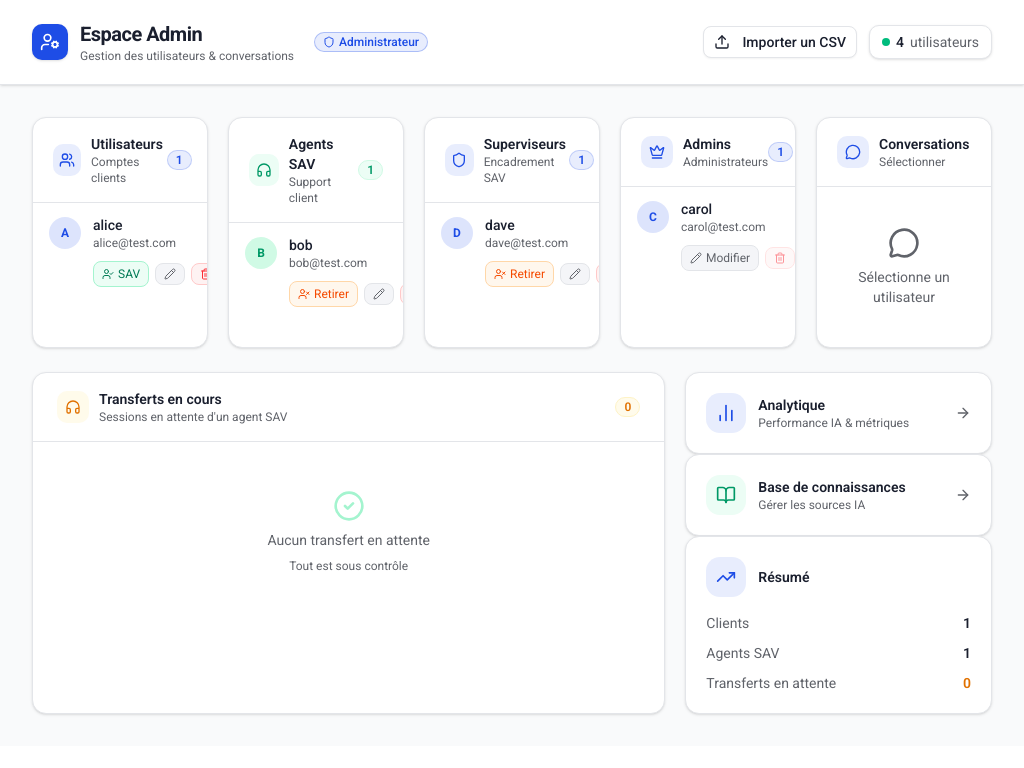
Test: AdminDashboard › loads a user's sessions when selected
Step 1. Click the text "alice" → (108, 225), box x1=93 y1=217 x2=122 y2=233
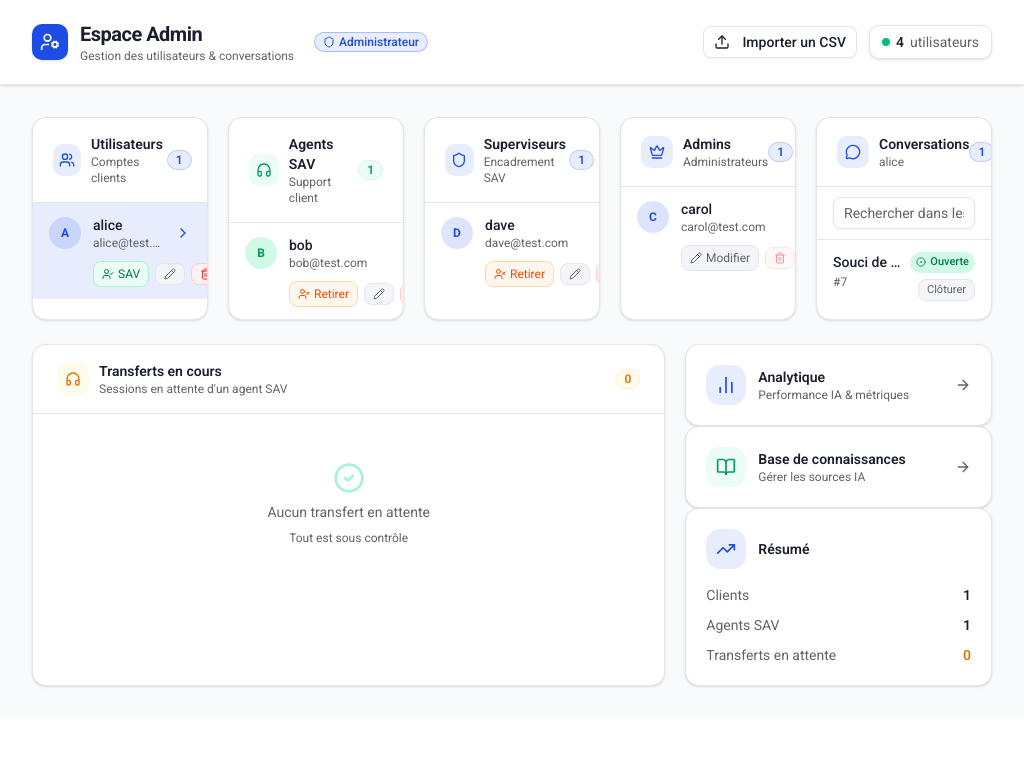
Expected: the text "Souci de paiement" is shown, x1=833 y1=252 x2=902 y2=272
